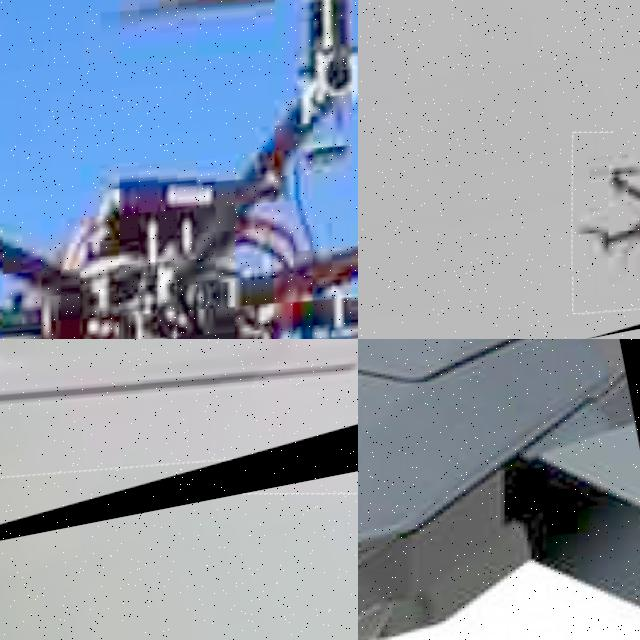0: (0, 0, 358, 339), (548, 105, 640, 339)
drone: (0, 339, 358, 578), (358, 339, 640, 640)
